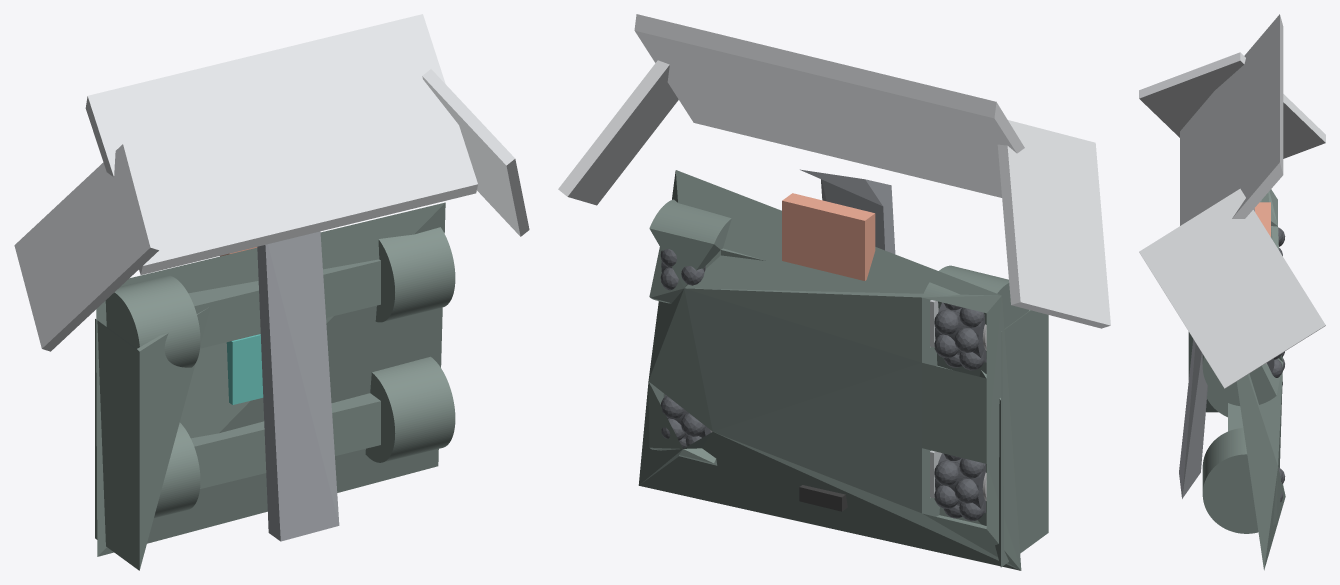
File: pla_st_is_a_perfectly_legitima.glb
3 renders of one model, left to right at view 1: azimuth 30°, elevation 25°; view 2: azimuth 150°, elevation 25°; view 3: azimuth 270°, elevation 25°, orthographic. The views are drawn at different scales.
Parts seen in each view (by area): view 1: chassis, wedge, arm, wedge_wing_r, wedge_wing_l, el_battery; view 2: chassis, wedge, wedge_wing_r, el_rx_esc, wedge_wing_l, arm, wheel_r0, wheel_r1, wheel_l0, wheel_l1, el_switch; view 3: wedge_wing_l, wedge, chassis, wedge_wing_r, arm, el_rx_esc, wheel_l1.
Boxes of the visible parts, box(x1,y1,x2,y2) form: chassis: box(95, 202, 455, 570); wedge: box(85, 14, 477, 274); arm: box(257, 231, 339, 541); wedge_wing_r: box(14, 144, 159, 351); wedge_wing_l: box(422, 69, 529, 236); el_battery: box(226, 334, 263, 404); chassis: box(638, 170, 1048, 570); wedge: box(634, 14, 1024, 197); wedge_wing_r: box(997, 120, 1110, 328); el_rx_esc: box(782, 193, 875, 280); wedge_wing_l: box(558, 60, 678, 205); arm: box(800, 169, 895, 253); wheel_r0: box(934, 453, 985, 521); wheel_r1: box(934, 302, 986, 370); wheel_l0: box(661, 394, 710, 448); wheel_l1: box(660, 249, 705, 290); el_switch: box(799, 485, 847, 511); wedge_wing_l: box(1139, 188, 1325, 388); wedge: box(1180, 14, 1283, 225); chassis: box(1188, 189, 1285, 570); wedge_wing_r: box(1139, 52, 1325, 158); arm: box(1179, 208, 1254, 498); el_rx_esc: box(1254, 202, 1270, 236); wheel_l1: box(1267, 351, 1284, 377).
Size of the model in its own units: 145 by 128 by 53.21.
